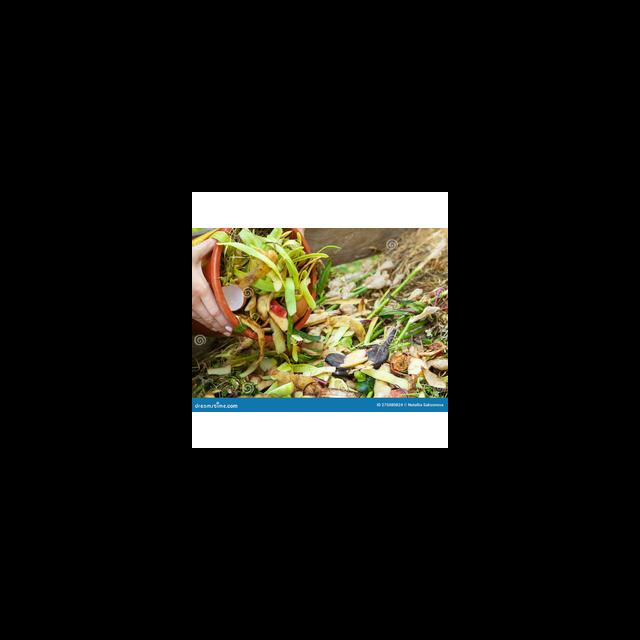food_waste: (217, 352, 351, 389), (373, 338, 448, 395), (264, 360, 368, 395), (316, 271, 378, 322), (332, 313, 380, 351), (244, 247, 277, 291), (225, 286, 253, 313)
